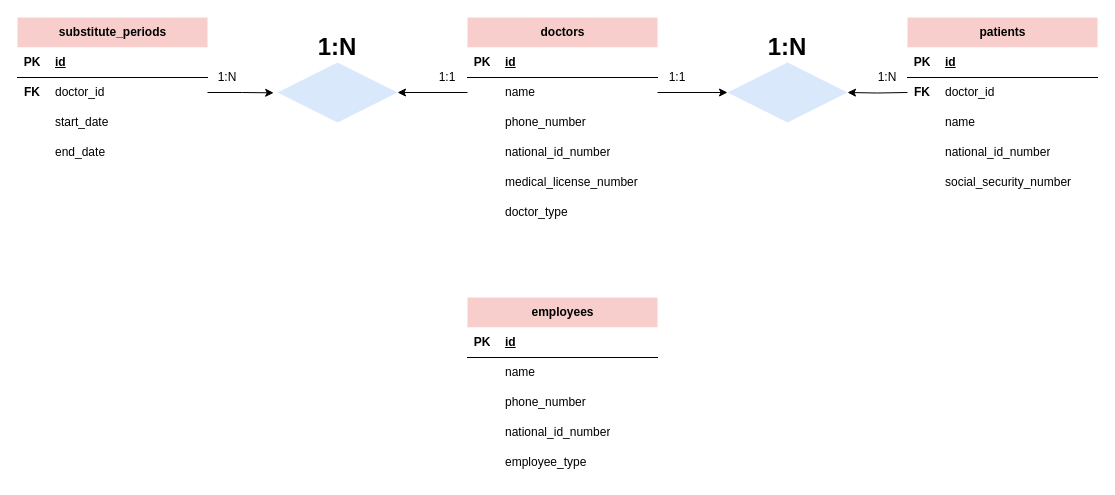
Image size: 1115x495. Some labels were removed from this diagram. Each missing label, with the centre of its shape:
substitutes: (337,92)
treats: (787,92)
